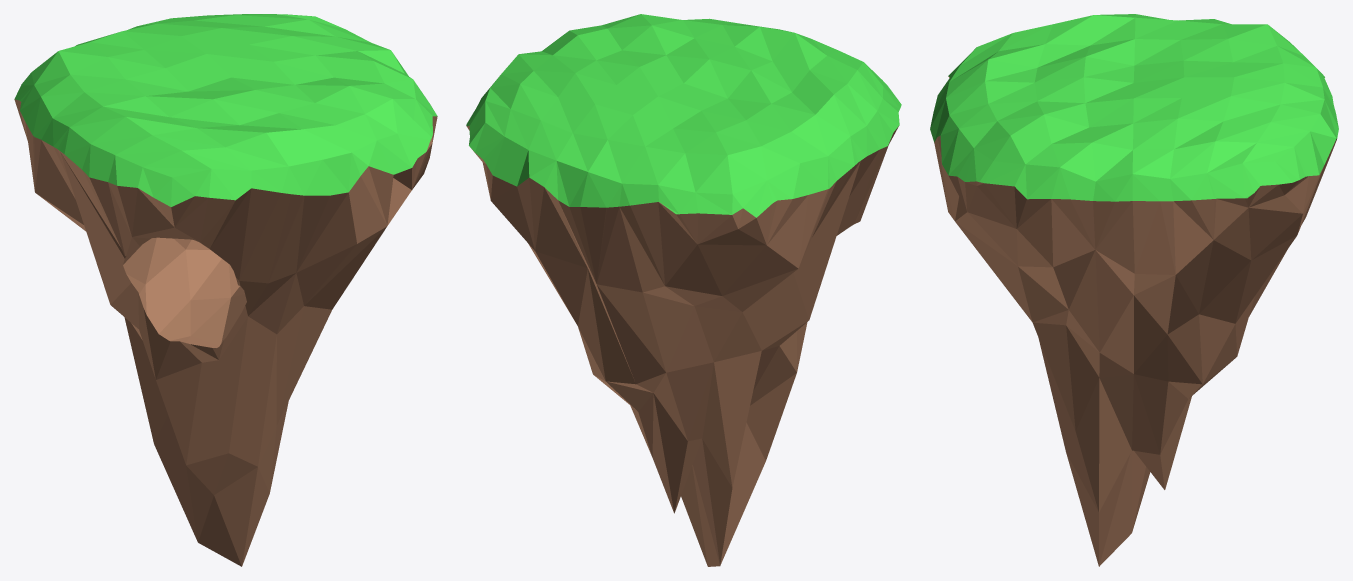
The picture shows the model from 3 angles, left to right: view 1: azimuth 30°, elevation 25°; view 2: azimuth 150°, elevation 25°; view 3: azimuth 270°, elevation 25°; orthographic projection. The views are drawn at different scales.
Parts seen in each view (by area): view 1: Island; view 2: Island; view 3: Island.
Part boxes in pixels (x1,y1,x2,y2): Island: [14, 14, 437, 566]; Island: [466, 14, 901, 566]; Island: [930, 14, 1338, 566].
Bounding box in the file's own units: 36.48 × 49.24 × 37.03.
